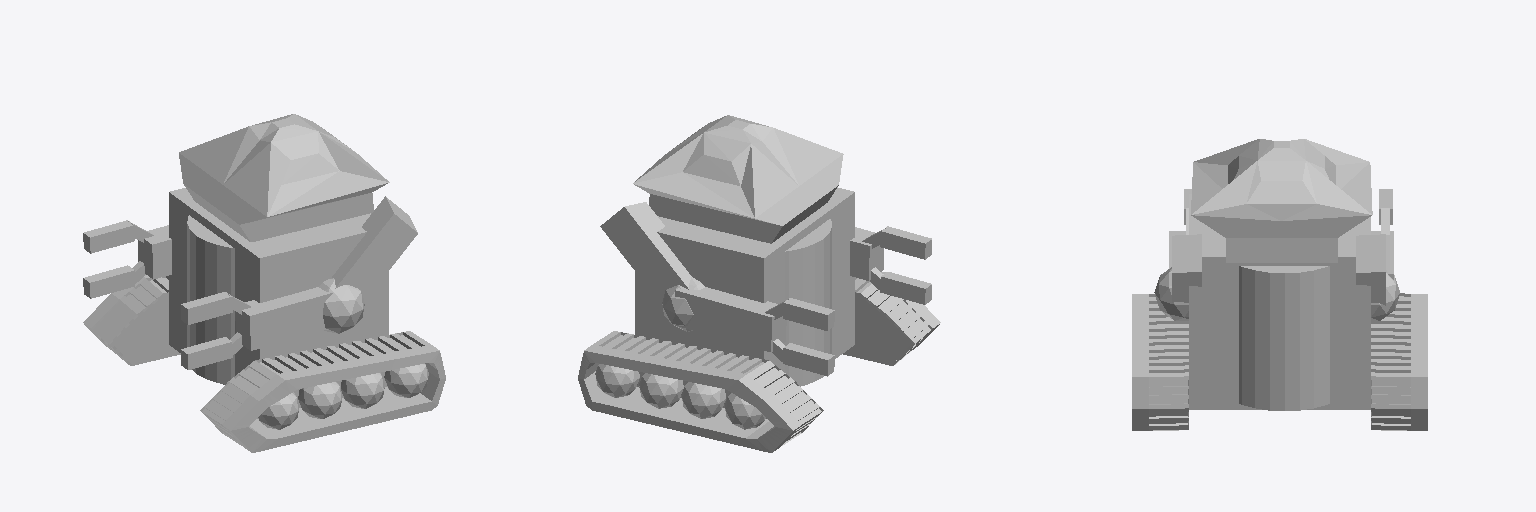
The model's file is pondeuse.obj.
The picture shows the model from 3 angles: view 1: azimuth 30°, elevation 25°; view 2: azimuth 150°, elevation 25°; view 3: azimuth 270°, elevation 25°; orthographic projection.
Parts seen in each view (by area): view 1: Cube; view 2: Cube; view 3: Cube.
Boxes of the visible parts, x1,y1,x2,y2 form: Cube: [83, 114, 445, 452]; Cube: [578, 115, 940, 452]; Cube: [1132, 139, 1427, 430].
Size of the model in its own units: 0.9767 by 1 by 1.08.